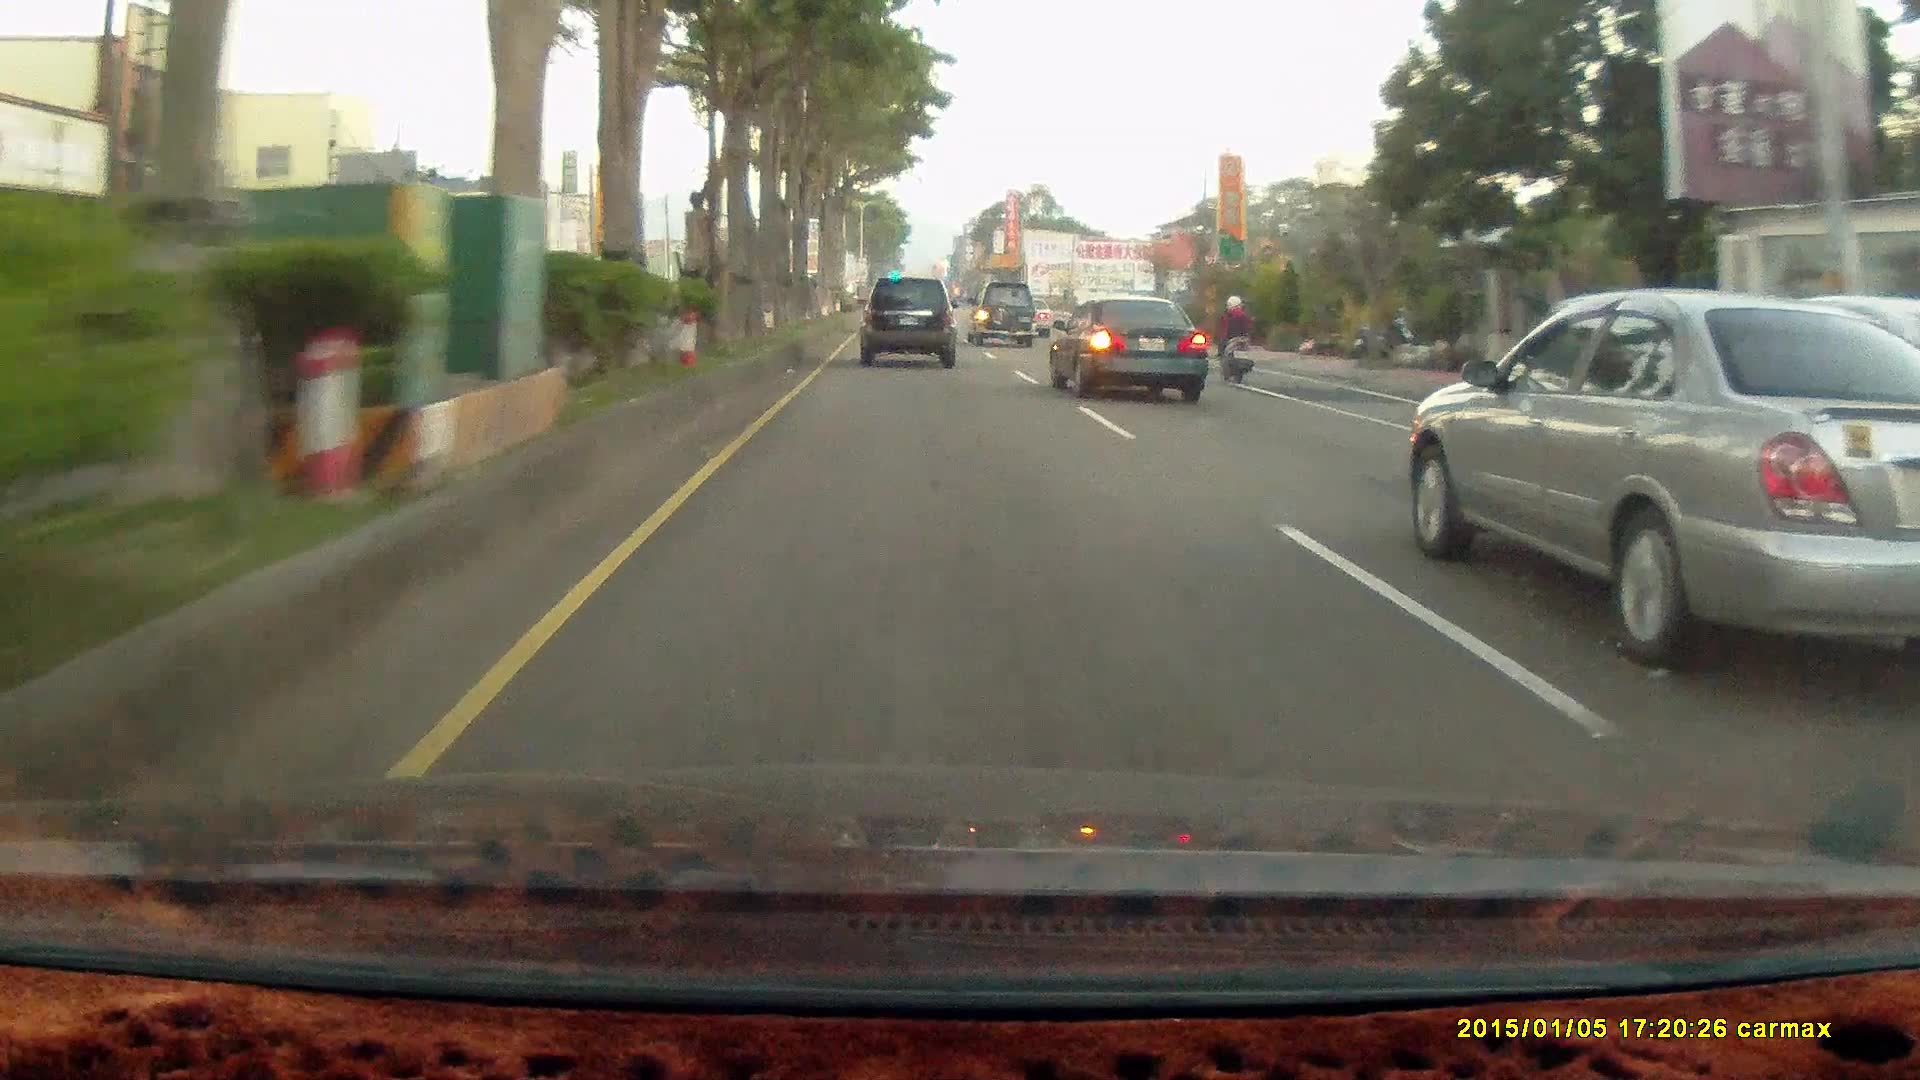rider: (1208, 287, 1262, 391), (1212, 289, 1258, 382)
vehicle: (1404, 291, 1920, 678), (1046, 293, 1207, 400), (1052, 297, 1214, 401), (861, 276, 962, 369), (853, 276, 953, 369), (966, 280, 1040, 351), (965, 280, 1039, 350)
